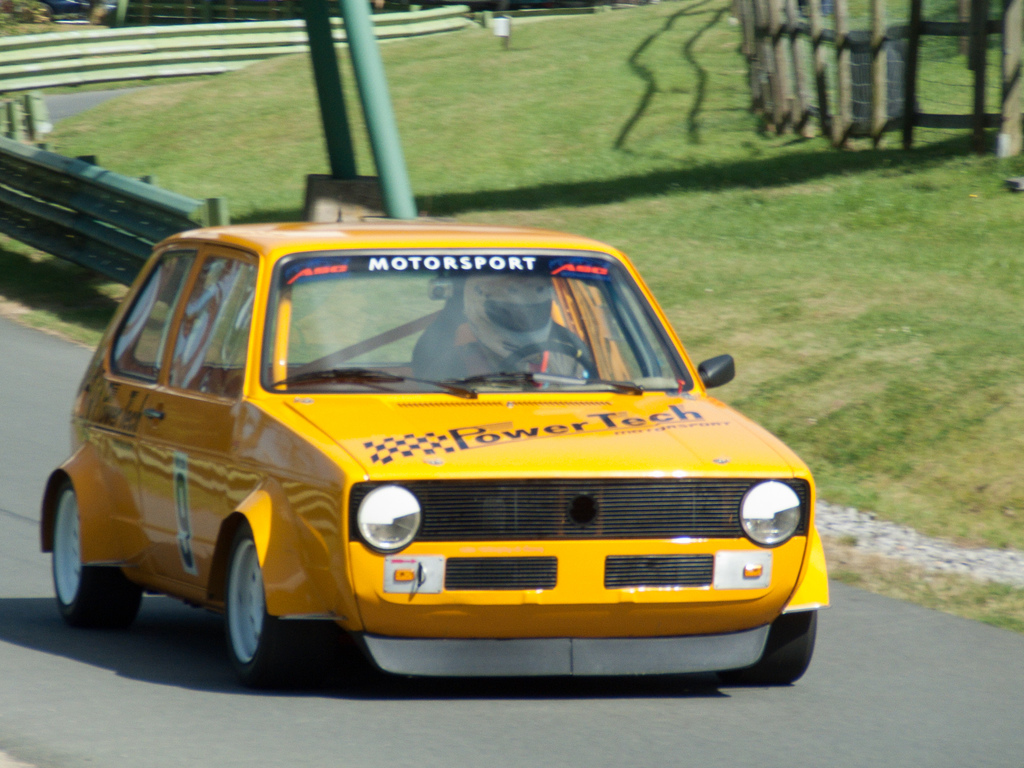cars: (42, 214, 833, 706)
